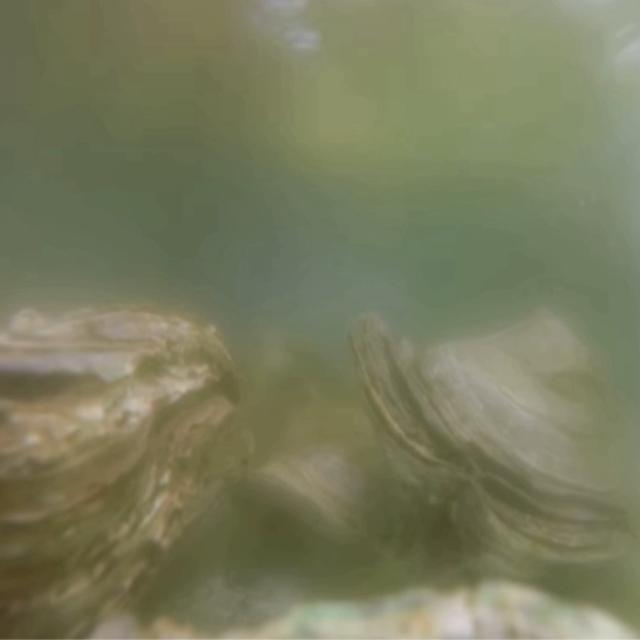Oyster-Closed: (0, 305, 255, 637), (346, 308, 640, 576)
Oyster-Indeterminate: (248, 406, 410, 561)
